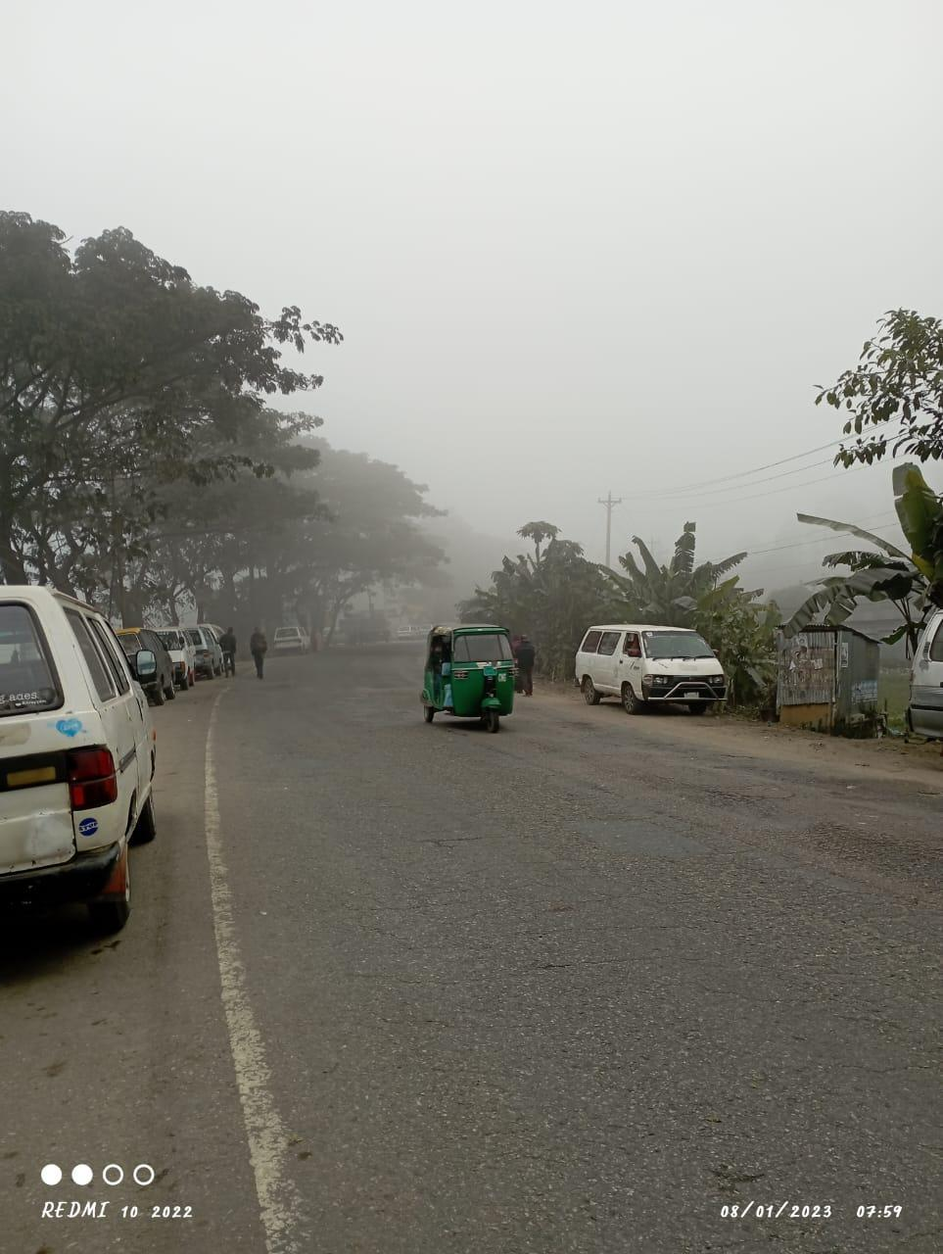Car: (1, 564, 165, 922), (565, 616, 726, 714), (263, 610, 313, 661)
